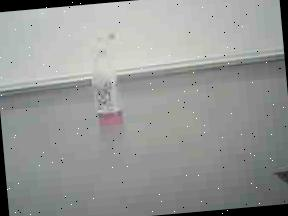hazard: (86, 28, 130, 122)
